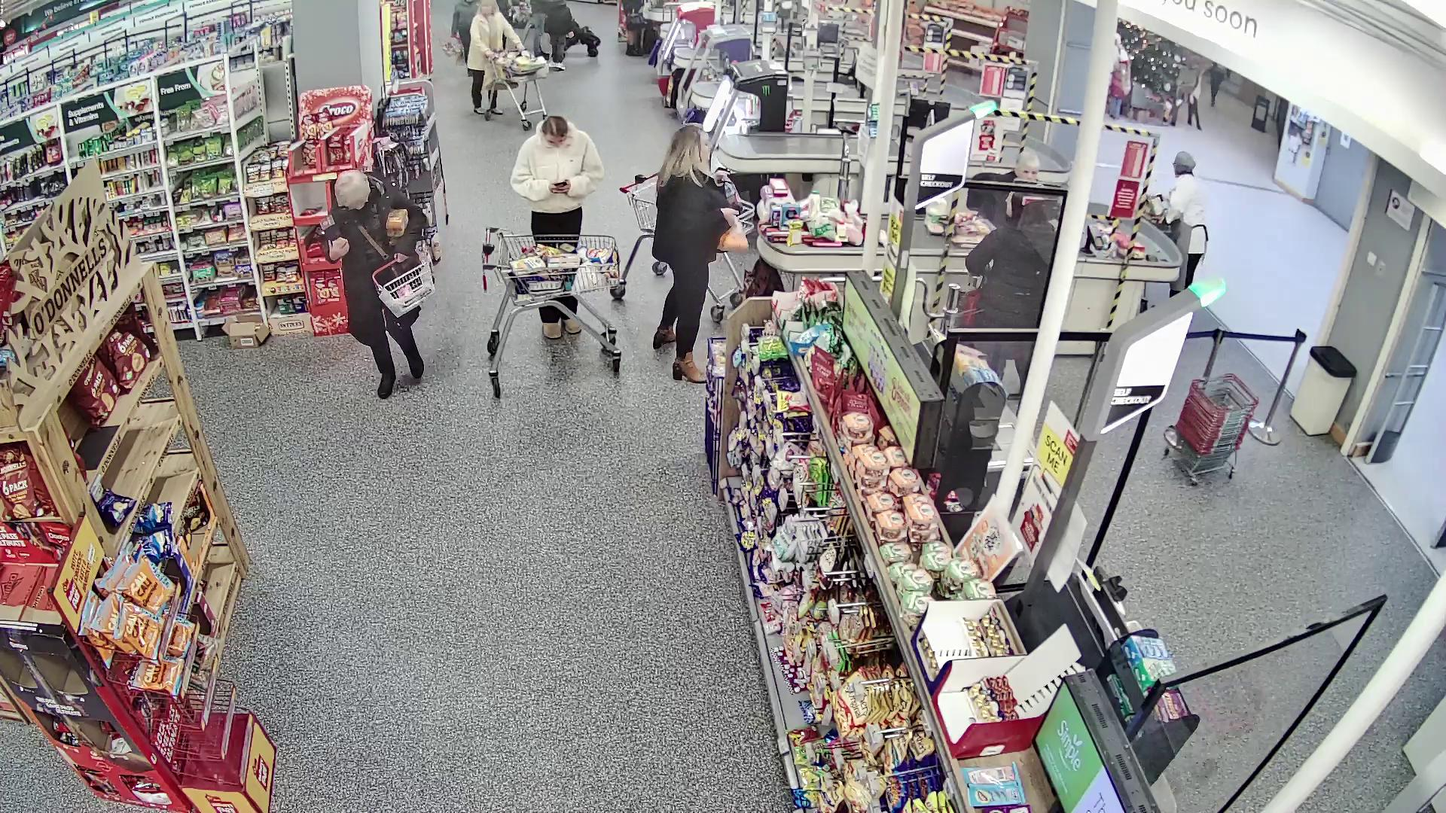carrying-item: (320, 213, 348, 254), (383, 210, 409, 243)
empty-basket: (372, 253, 436, 317)
filled-shopping-bags: (484, 58, 518, 91)
filled-trolly: (481, 225, 620, 396), (485, 47, 549, 129)
person: (325, 169, 427, 399), (511, 118, 604, 336), (467, 0, 530, 115)
person-with-basket-trolly-and-carrying-item: (320, 169, 436, 400)
person-with-basket-trolly-and-shopping-bag: (467, 0, 548, 128)
person-with-filled-basket-trolly: (482, 118, 620, 395)
